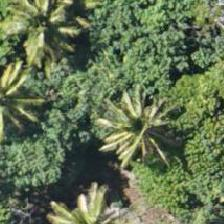coconut_tree: (96, 78, 186, 168), (0, 63, 59, 153), (0, 66, 57, 156), (2, 0, 92, 53), (0, 151, 65, 223)
